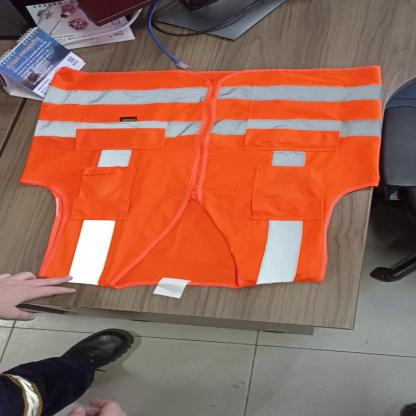colete: (18, 60, 387, 288)
